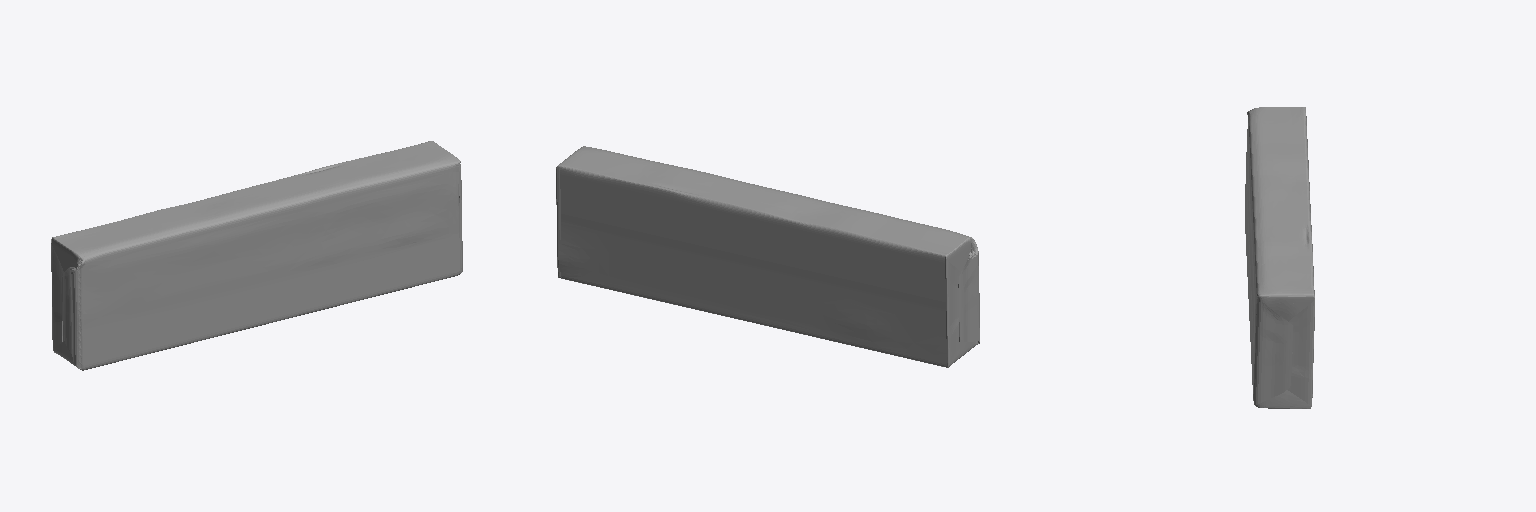
File: decimated_stick.obj
3 views of the same model, side by side, from view 1: azimuth 30°, elevation 25°; view 2: azimuth 150°, elevation 25°; view 3: azimuth 270°, elevation 25° (orthographic).
Parts seen in each view (by area): view 1: Floating_Stick.001; view 2: Floating_Stick.001; view 3: Floating_Stick.001.
Part boxes in pixels (x1,y1,x2,y2): Floating_Stick.001: (51, 141, 462, 370); Floating_Stick.001: (556, 146, 979, 367); Floating_Stick.001: (1245, 107, 1314, 408).
Size of the model in its own units: 29.71 by 8.43 by 4.63.